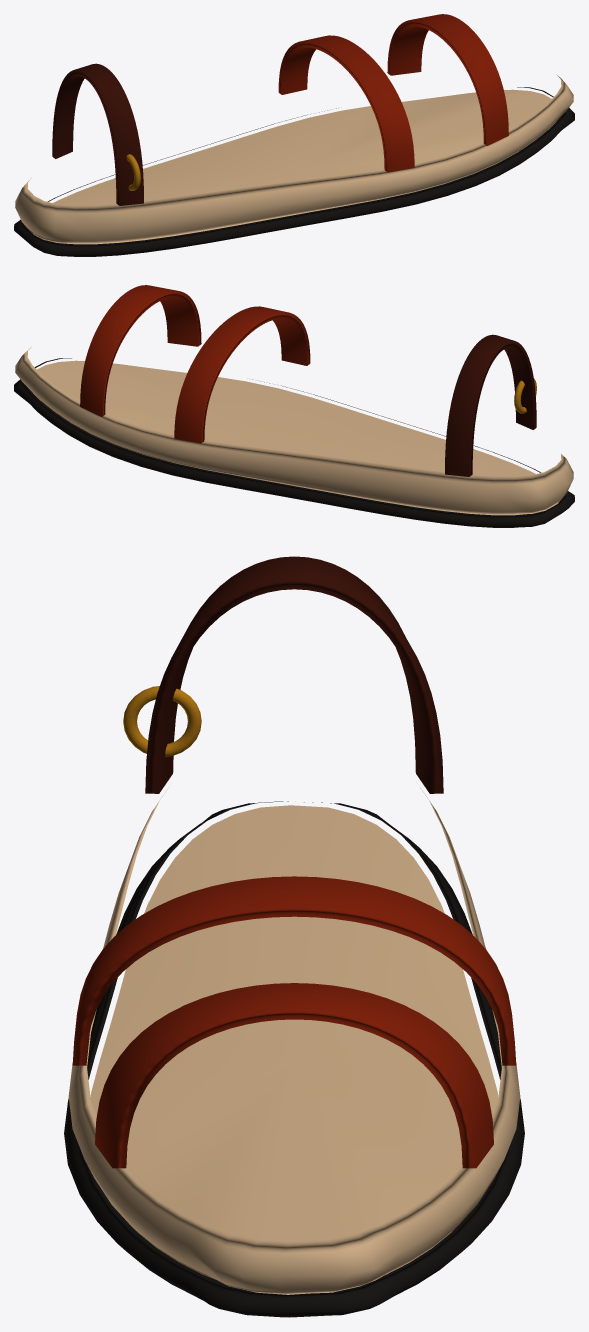
File: riviera-sandal-cognac.glb
The picture shows the model from 3 angles, top to bottom: view 1: azimuth 30°, elevation 25°; view 2: azimuth 150°, elevation 25°; view 3: azimuth 270°, elevation 25°; orthographic projection. The views are drawn at different scales.
Parts seen in each view (by area): view 1: footbed, outsole, strap-0.6, strap-0.8, strap-0.12; view 2: footbed, outsole, strap-0.6, strap-0.8, strap-0.12; view 3: footbed, strap-0.8, strap-0.6, outsole, strap-0.12, buckle.
Part boxes in pixels (box(x1,y1,x2,y2)): footbed: box(15, 74, 573, 244); outsole: box(14, 87, 574, 256); strap-0.6: box(278, 35, 414, 172); strap-0.8: box(387, 14, 508, 145); strap-0.12: box(52, 63, 143, 205); footbed: box(15, 347, 573, 515); outsole: box(14, 358, 574, 527); strap-0.6: box(174, 306, 310, 443); strap-0.8: box(80, 285, 201, 416); strap-0.12: box(445, 334, 536, 476); footbed: box(68, 787, 520, 1294); strap-0.8: box(95, 983, 493, 1168); strap-0.6: box(72, 876, 516, 1065); outsole: box(64, 801, 524, 1317); strap-0.12: box(145, 556, 443, 793); buckle: box(123, 686, 201, 756).
Size of the model in its own units: 0.268 by 0.0765 by 0.0997.
